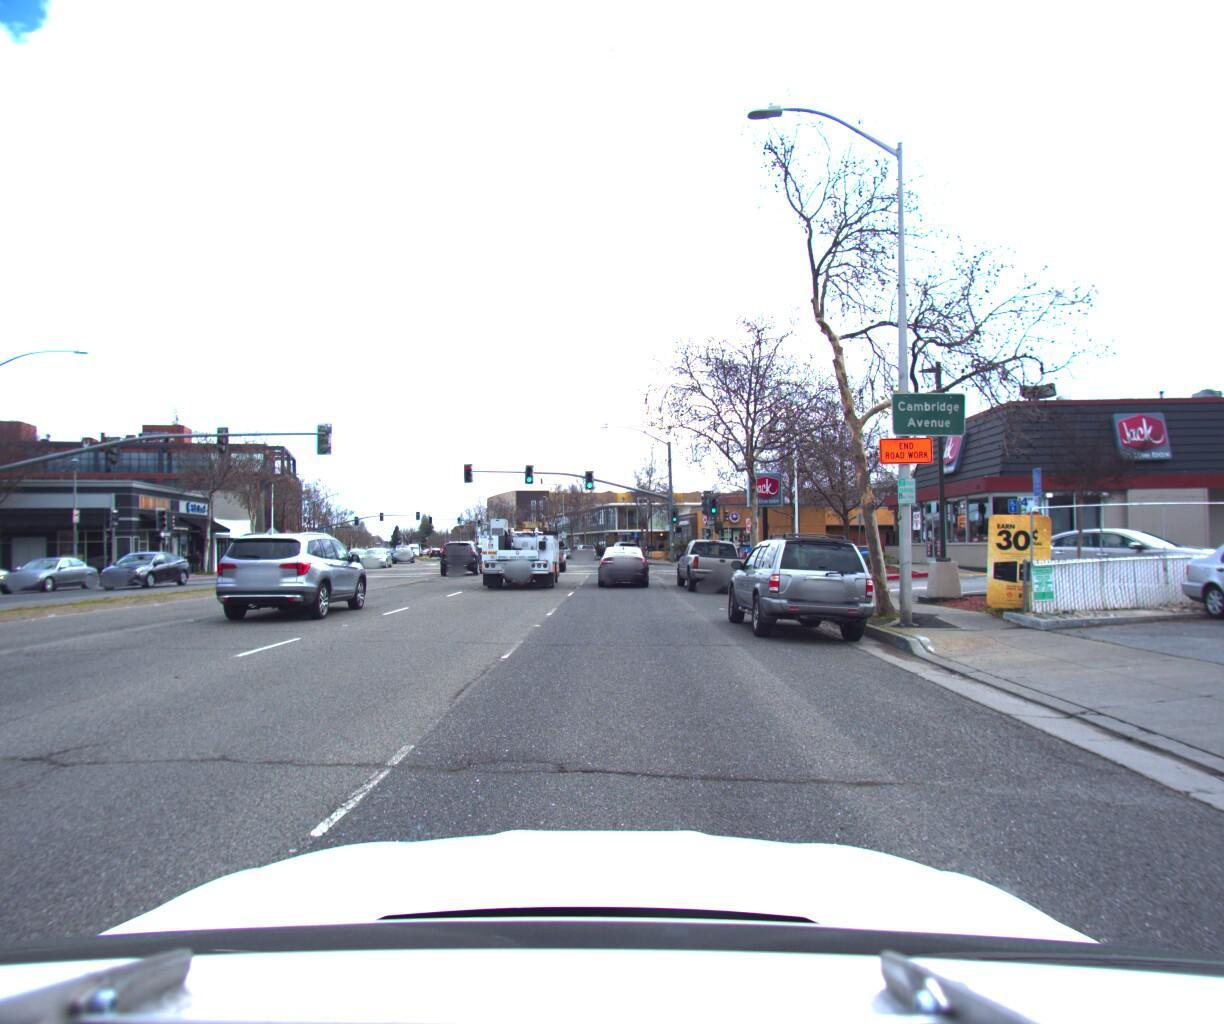car: (716, 518, 880, 647), (995, 514, 1224, 587), (209, 522, 374, 621), (1163, 520, 1224, 641), (669, 528, 753, 588), (88, 545, 199, 588), (0, 548, 108, 588), (593, 538, 656, 584), (438, 532, 492, 570), (0, 548, 30, 586), (358, 536, 400, 559), (344, 538, 373, 556), (570, 533, 596, 551)
truck: (472, 502, 569, 586)
